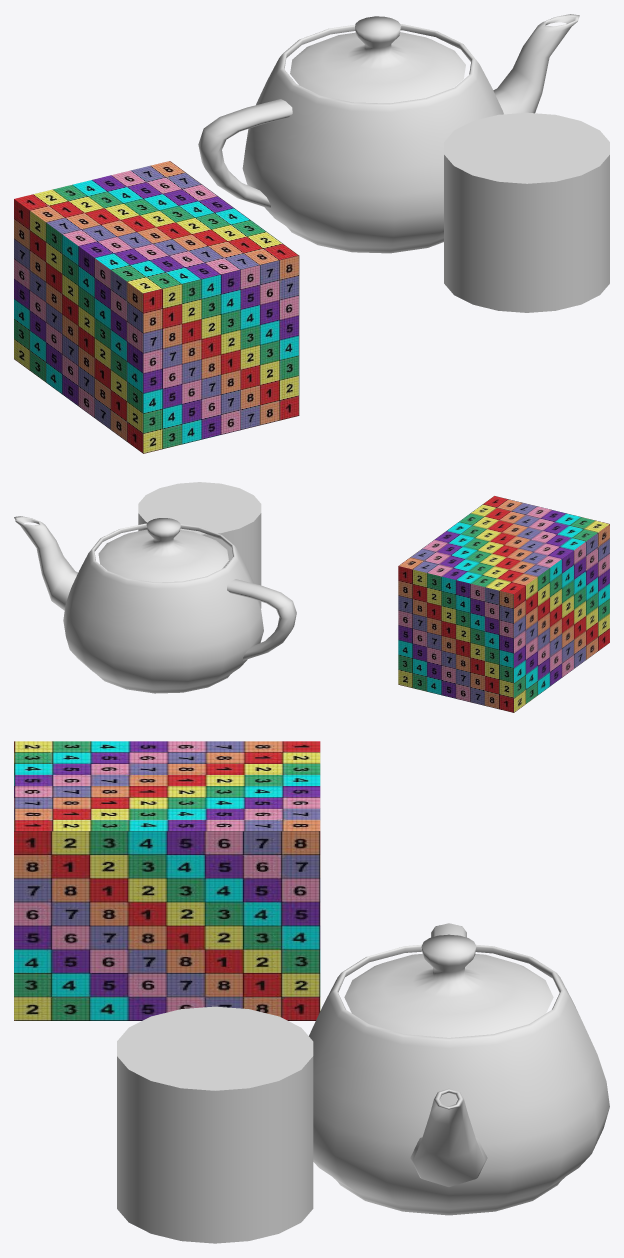
Rendered from testScene.gltf.
3 renders of one model, top to bottom at view 1: azimuth 30°, elevation 25°; view 2: azimuth 150°, elevation 25°; view 3: azimuth 270°, elevation 25°, orthographic. The views are drawn at different scales.
Visible parts, largest first — view 1: Box001, Teapot001, Cylinder001; view 2: Box001, Teapot001, Cylinder001; view 3: Box001, Teapot001, Cylinder001.
Part boxes in pixels (<box>): Box001: <box>14,161,299,453</box>; Teapot001: <box>198,14,579,253</box>; Cylinder001: <box>444,112,609,312</box>; Box001: <box>398,496,609,712</box>; Teapot001: <box>14,516,296,693</box>; Cylinder001: <box>138,482,261,608</box>; Box001: <box>14,741,320,1020</box>; Teapot001: <box>309,923,609,1215</box>; Cylinder001: <box>117,1006,313,1243</box>.
Size of the model in its own units: 71.7 by 21.45 by 50.42.
Materials: 1 (1 with a texture image).
